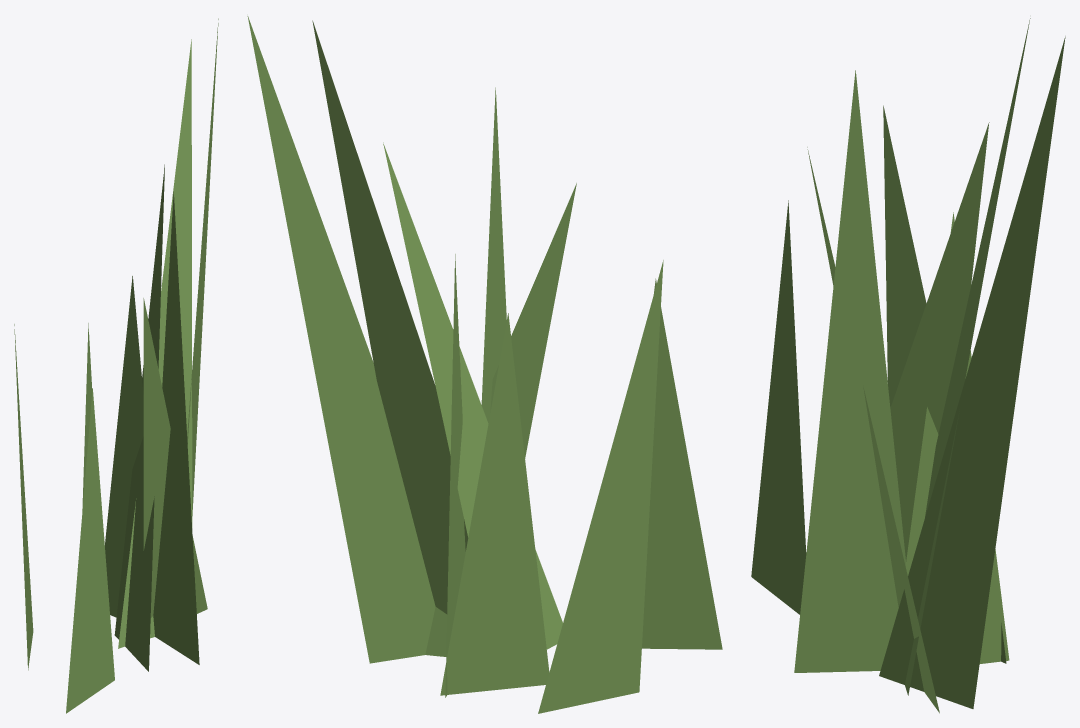
File: grass_tuft.glb
The picture shows the model from 3 angles, left to right: view 1: azimuth 30°, elevation 25°; view 2: azimuth 150°, elevation 25°; view 3: azimuth 270°, elevation 25°; orthographic projection. The views are drawn at different scales.
Visible parts, largest first — view 1: grass_tuft; view 2: grass_tuft; view 3: grass_tuft.
Boxes of the visible parts, x1=… form: grass_tuft: x1=14, y1=18, x2=218, y2=713; grass_tuft: x1=247, y1=16, x2=722, y2=713; grass_tuft: x1=751, y1=18, x2=1065, y2=713.
Bounding box in the file's own units: 0.2363 × 0.4495 × 0.1787.
